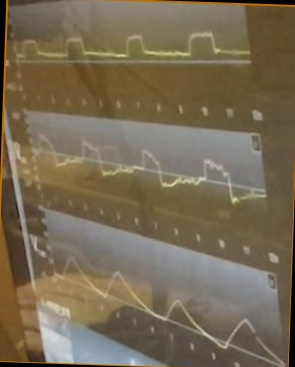Accumulation Flow: (33, 130, 264, 205)
Volume: (55, 255, 283, 362)
